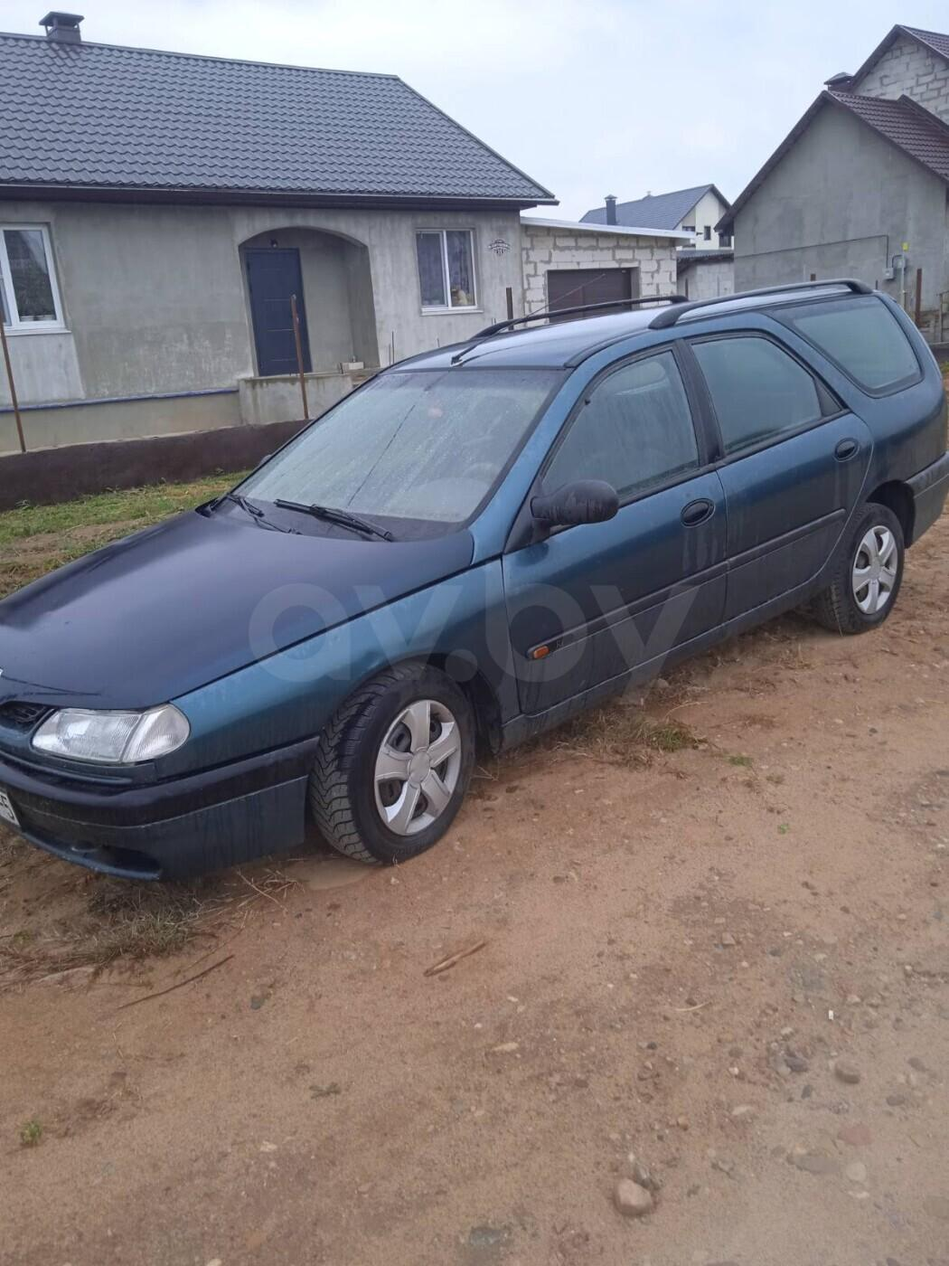Lahuna_1993-1999: (0, 279, 949, 890)
